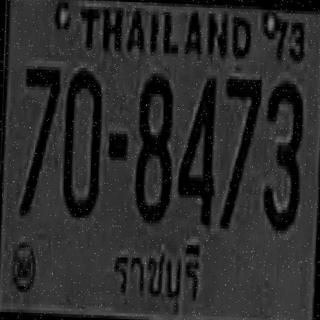N00: (61, 67, 102, 215)
N03: (261, 77, 302, 228)
N04: (175, 73, 216, 224)
N07: (220, 76, 261, 226), (20, 63, 60, 214)
N08: (133, 72, 172, 220)
P52: (110, 235, 206, 308)
